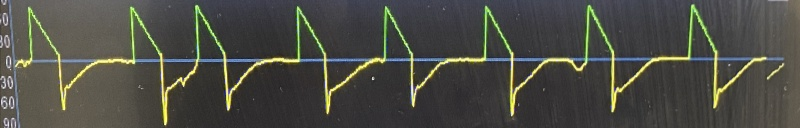normal_flow: (9, 0, 779, 118)
